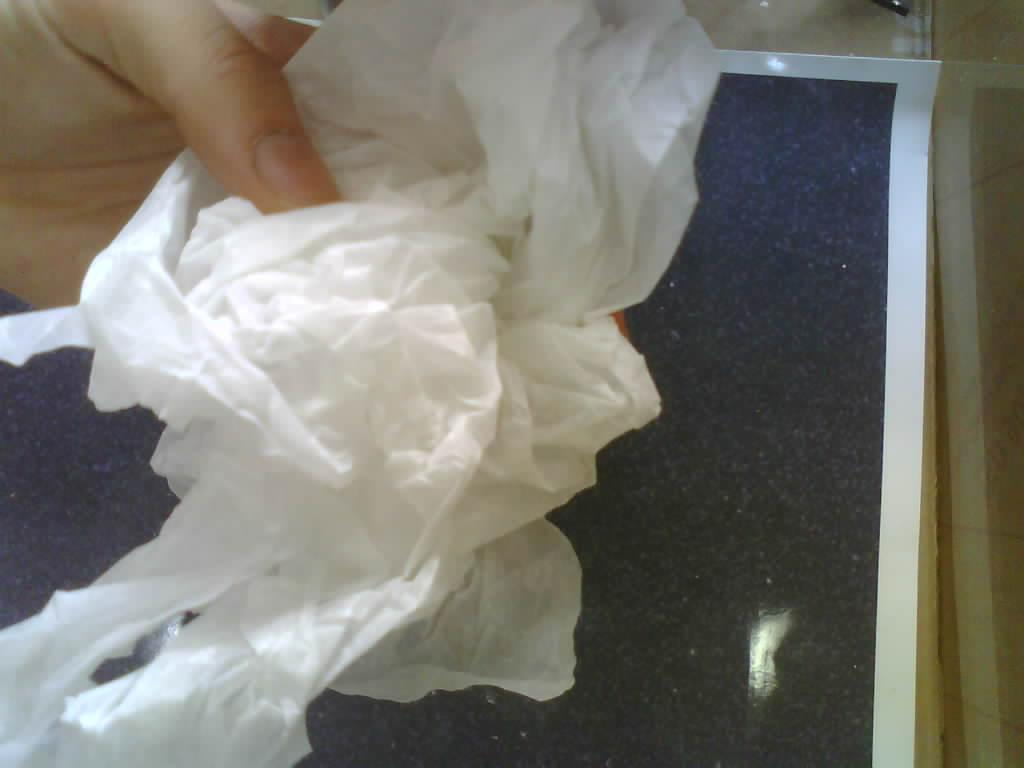paper: (0, 8, 718, 768)
